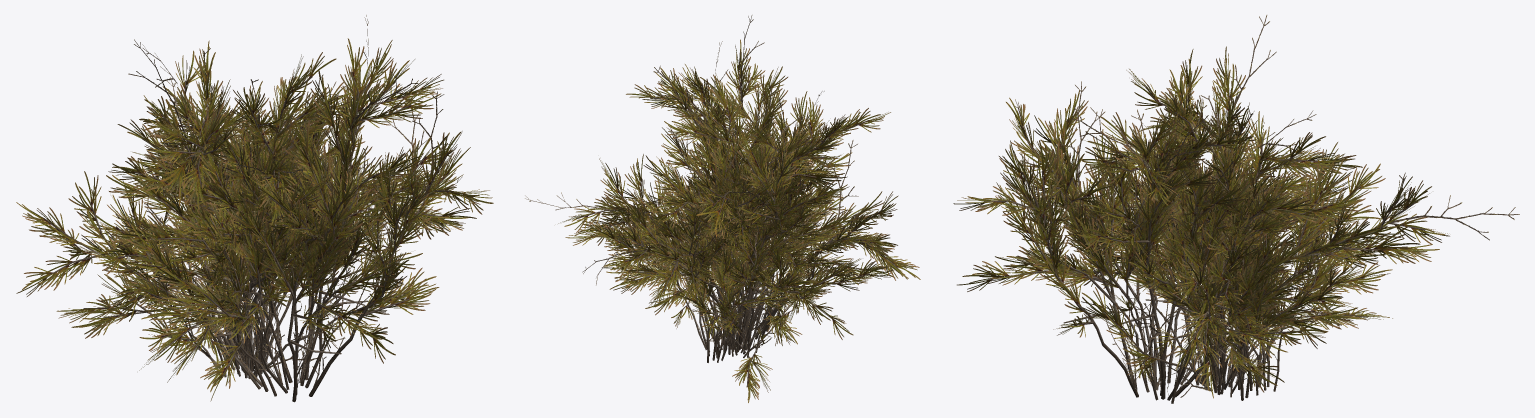
File: rooibos.glb
3 views of the same model, side by side, from view 1: azimuth 30°, elevation 25°; view 2: azimuth 150°, elevation 25°; view 3: azimuth 270°, elevation 25° (orthographic). The views are drawn at different scales.
Visible parts, largest first — view 1: wild_rooibos_bush_a, wild_rooibos_bush_b, wild_rooibos_bush_c, wild_rooibos_bush_d, wild_rooibos_bush_e; view 2: wild_rooibos_bush_a, wild_rooibos_bush_b, wild_rooibos_bush_c, wild_rooibos_bush_d, wild_rooibos_bush_e; view 3: wild_rooibos_bush_a, wild_rooibos_bush_b, wild_rooibos_bush_c, wild_rooibos_bush_d, wild_rooibos_bush_e.
Part boxes in pixels (bbox=[...]): wild_rooibos_bush_a: bbox=[16, 15, 493, 402]; wild_rooibos_bush_b: bbox=[56, 39, 436, 378]; wild_rooibos_bush_c: bbox=[103, 116, 354, 374]; wild_rooibos_bush_d: bbox=[172, 78, 369, 378]; wild_rooibos_bush_e: bbox=[189, 175, 317, 356]; wild_rooibos_bush_a: bbox=[525, 15, 920, 345]; wild_rooibos_bush_b: bbox=[593, 97, 858, 402]; wild_rooibos_bush_c: bbox=[590, 116, 849, 360]; wild_rooibos_bush_d: bbox=[643, 131, 831, 352]; wild_rooibos_bush_e: bbox=[655, 197, 790, 362]; wild_rooibos_bush_a: bbox=[953, 69, 1519, 403]; wild_rooibos_bush_b: bbox=[1080, 15, 1392, 397]; wild_rooibos_bush_c: bbox=[1080, 92, 1392, 400]; wild_rooibos_bush_d: bbox=[1112, 146, 1363, 394]; wild_rooibos_bush_e: bbox=[1182, 229, 1287, 395].
Bounding box in the file's own units: 1.39 × 1.08 × 1.69.
1 material, 1 textured.
